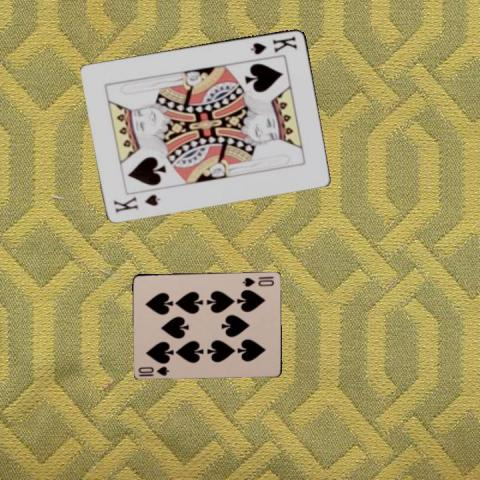10s: (136, 363, 171, 377), (240, 275, 275, 288)
Ks: (111, 191, 162, 214), (248, 34, 299, 56)
